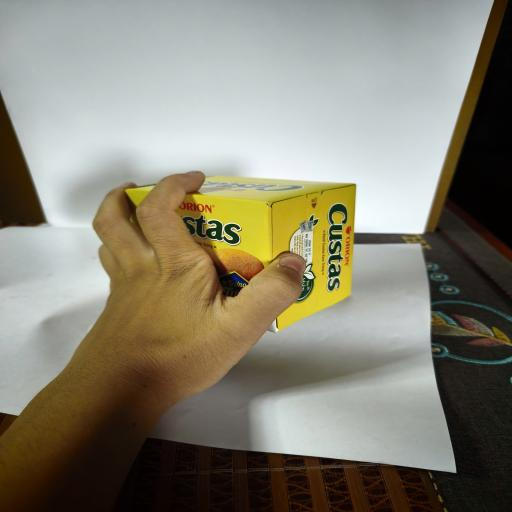custas: (124, 175, 357, 332)
